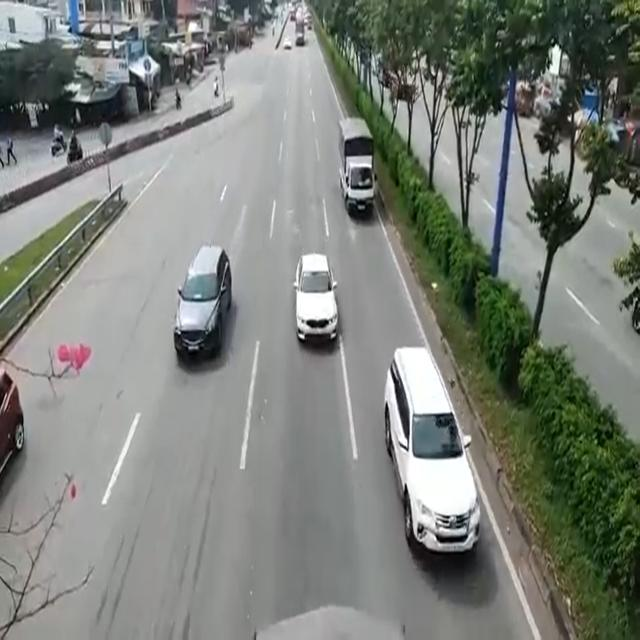car: (384, 342, 478, 559), (174, 244, 224, 369), (294, 252, 334, 350)
truck: (337, 113, 375, 214)
